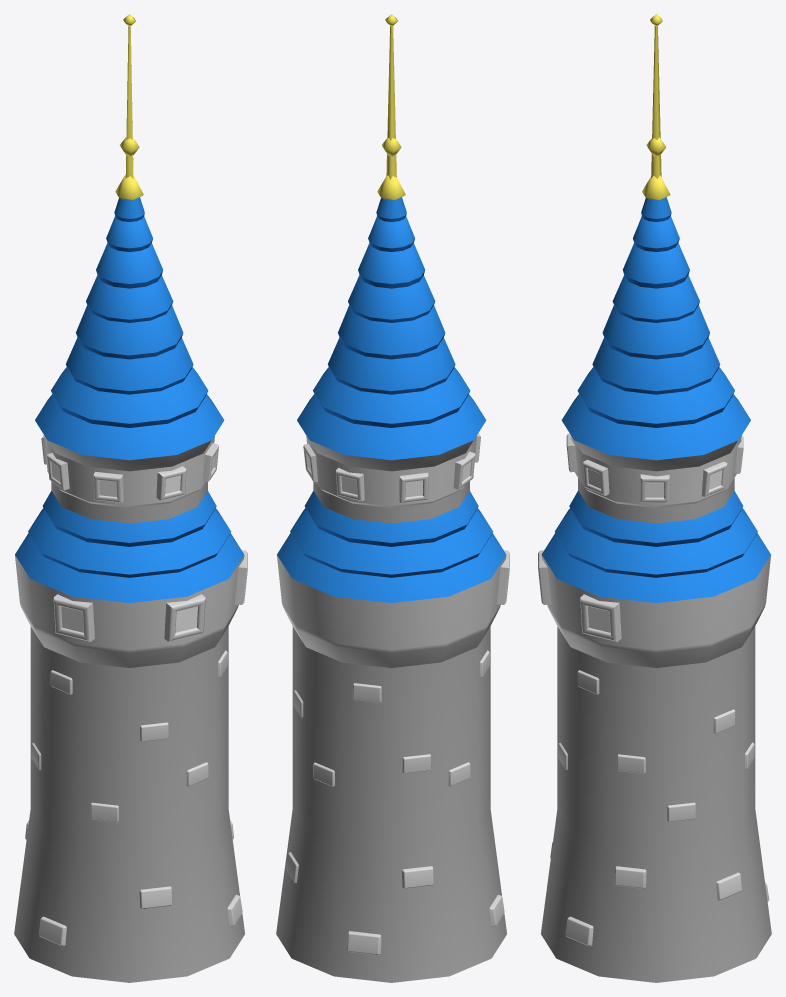
The model's file is castle_tower_008.gltf.
The picture shows the model from 3 angles, left to right: view 1: azimuth 30°, elevation 25°; view 2: azimuth 150°, elevation 25°; view 3: azimuth 270°, elevation 25°; orthographic projection.
Visible parts, largest first — view 1: castle_tower_008; view 2: castle_tower_008; view 3: castle_tower_008.
Part boxes in pixels (x1,y1,x2,y2): castle_tower_008: (14, 14, 247, 982); castle_tower_008: (276, 14, 509, 982); castle_tower_008: (538, 14, 771, 982).
Bounding box in the file's own units: 3.9 × 17.14 × 3.95.
2 materials, 1 textured.
